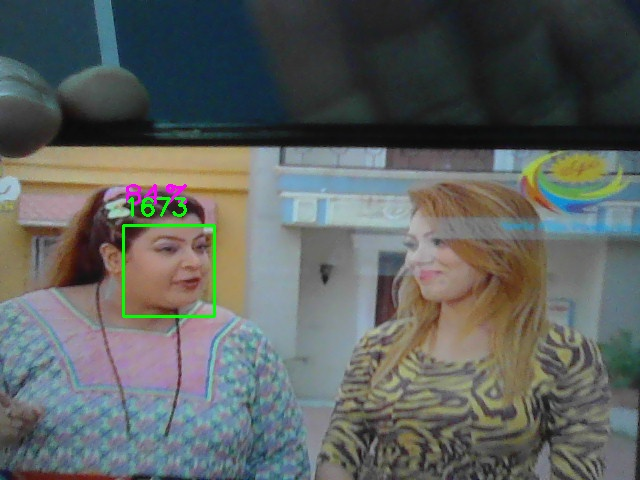fake: (123, 225, 215, 317)
